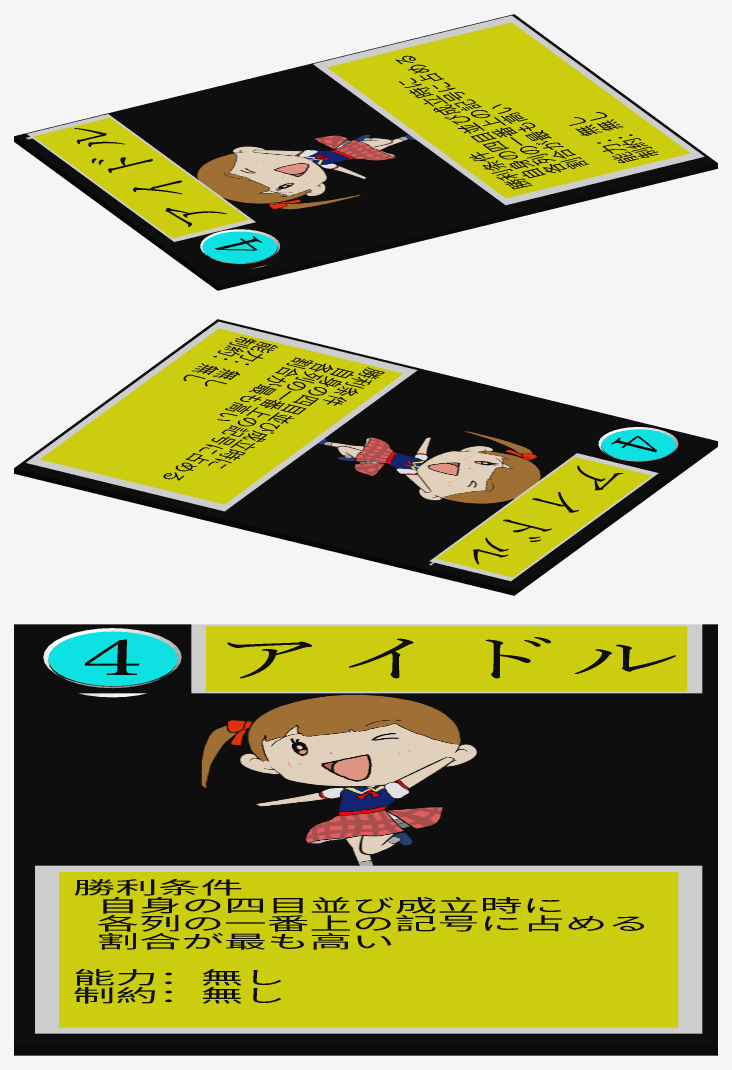
Rendered from アイドル黒.fbx.
3 renders of one model, top to bottom at view 1: azimuth 30°, elevation 25°; view 2: azimuth 150°, elevation 25°; view 3: azimuth 270°, elevation 25°, orthographic. The views are drawn at different scales.
Parts seen in each view (by area): view 1: カード本体.001, 説明欄, 名前欄, 平面.001, 説明文, 円, 平面, 名前; view 2: カード本体.001, 説明欄, 名前欄, 平面.001, 説明文, 円, 平面, 名前; view 3: カード本体.001, 説明欄, 名前欄, 平面.001, 説明文, 平面, 円, 名前, コスト蘭.
Boxes of the visible parts, <box> form: カード本体.001: <box>14,14,717,290</box>; 説明欄: <box>313,15,704,205</box>; 名前欄: <box>27,114,255,241</box>; 平面.001: <box>196,134,415,209</box>; 説明文: <box>395,55,658,189</box>; 円: <box>202,231,276,262</box>; 平面: <box>174,222,302,275</box>; 名前: <box>74,128,226,226</box>; カード本体.001: <box>14,319,717,595</box>; 説明欄: <box>26,321,417,511</box>; 名前欄: <box>429,453,658,581</box>; 平面.001: <box>318,431,541,503</box>; 説明文: <box>163,337,384,480</box>; 円: <box>601,429,675,460</box>; 平面: <box>577,419,704,472</box>; 名前: <box>473,465,623,564</box>; カード本体.001: <box>14,624,717,1055</box>; 説明欄: <box>35,865,702,1033</box>; 名前欄: <box>191,624,702,693</box>; 平面.001: <box>200,694,477,865</box>; 説明文: <box>74,879,643,1003</box>; 平面: <box>30,624,191,693</box>; 円: <box>48,631,177,686</box>; 名前: <box>227,637,675,678</box>; コスト蘭: <box>43,628,181,697</box>.
Size of the model in its own units: 281 by 6.07 by 198.
